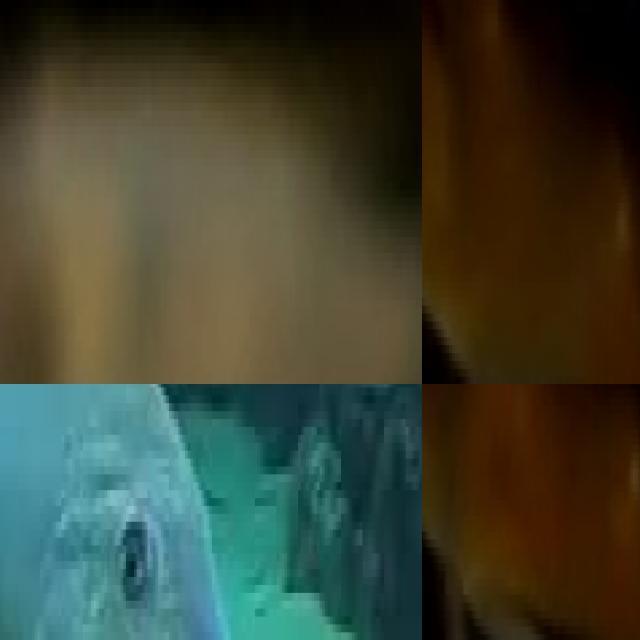fish: (0, 8, 422, 384), (422, 384, 640, 640)
